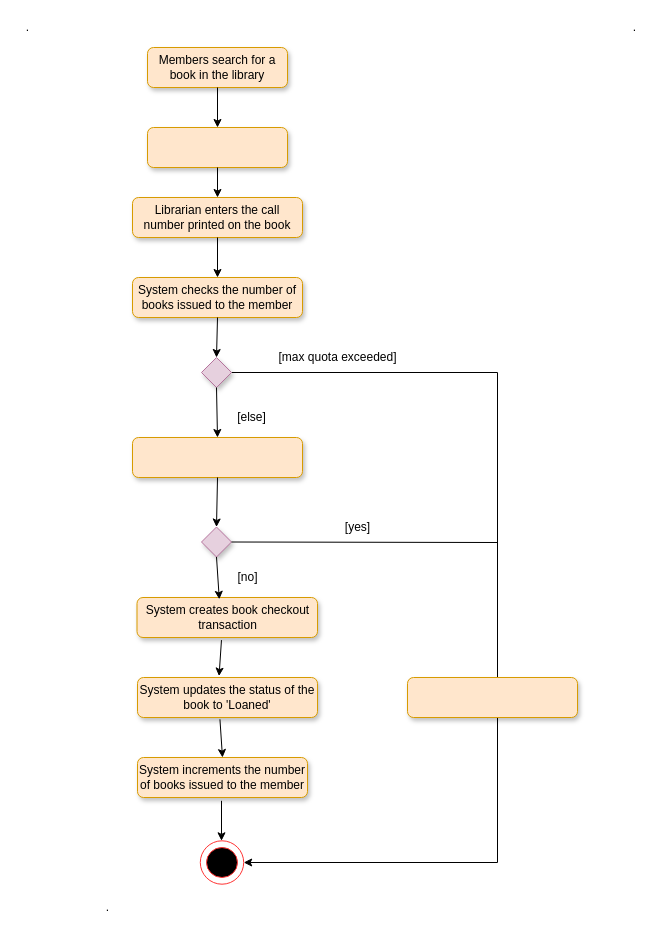
The diagram is 661 pixels wide and 934 high, and some of its shapes have lost their labels. Here are the shapes that lost their labels. From the top down, the centre of each, then its label:
At (218,148): "Members bring the book to the librarian".
At (218,458): "System checks if the book has been reserved by any other member".
At (493,698): "Show error message".
